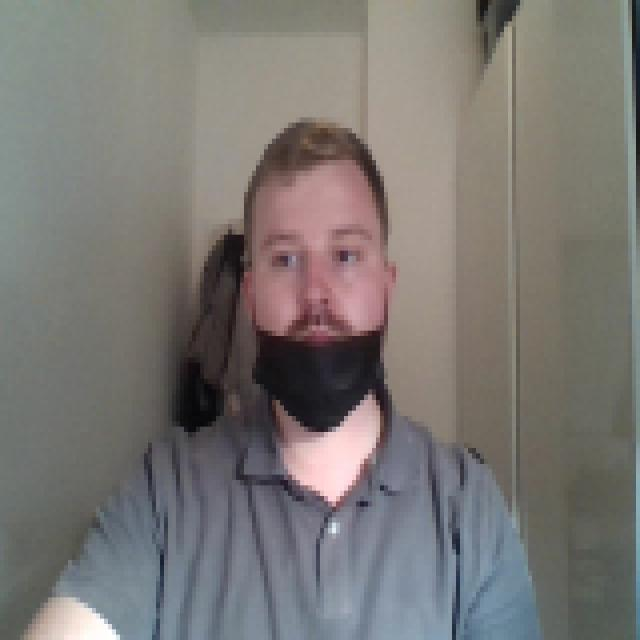hairnet: (236, 251, 416, 432)
